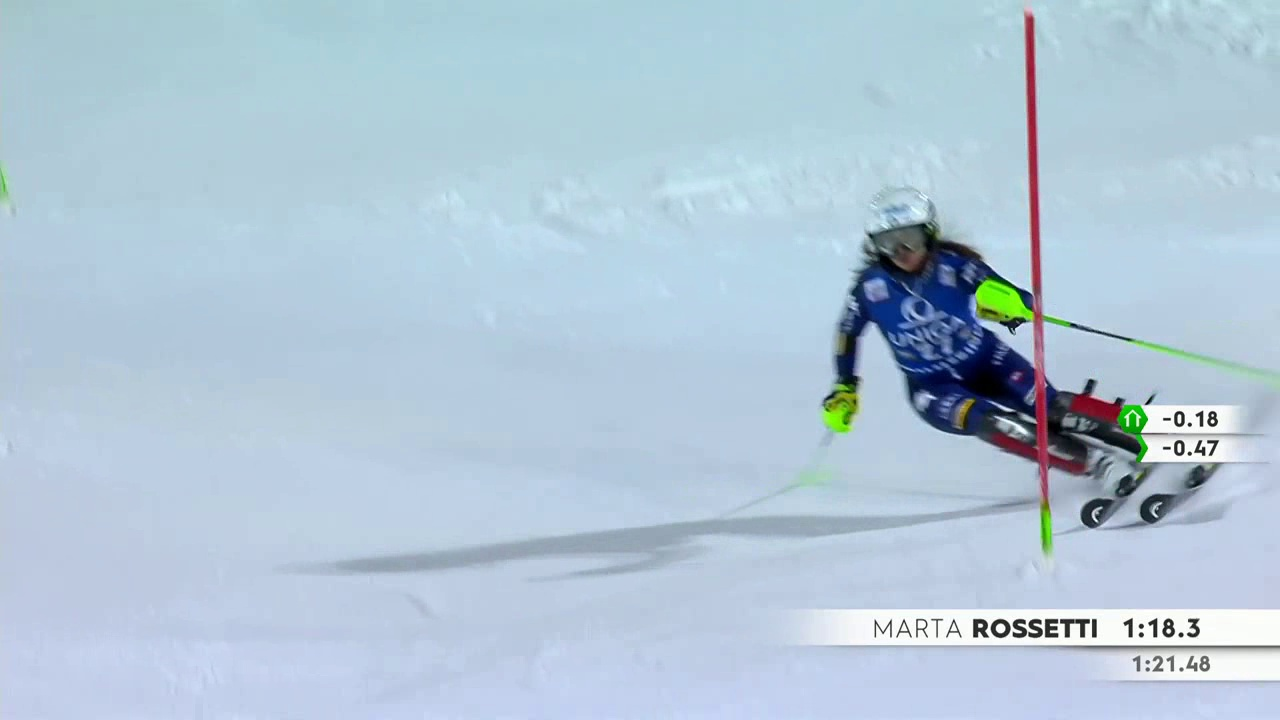uniqa: (884, 297, 970, 360)
